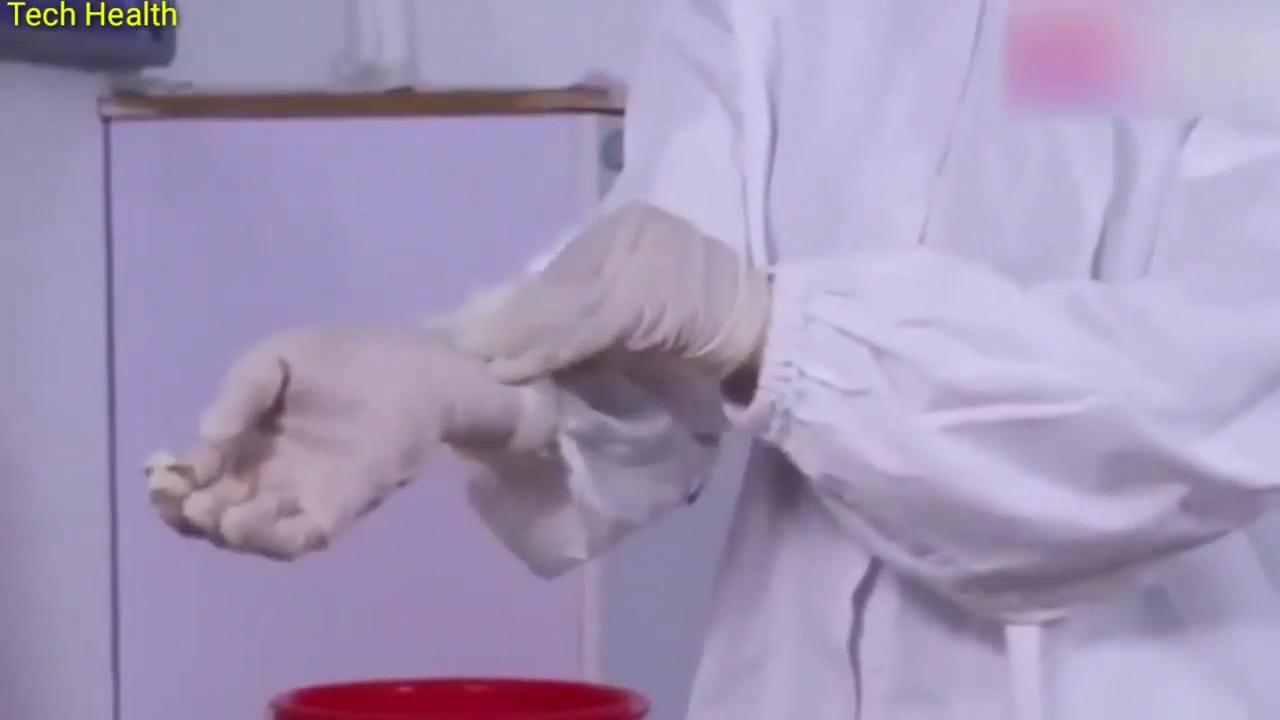Gloves On: (145, 202, 768, 578)
Suit On: (482, 0, 1280, 718)
